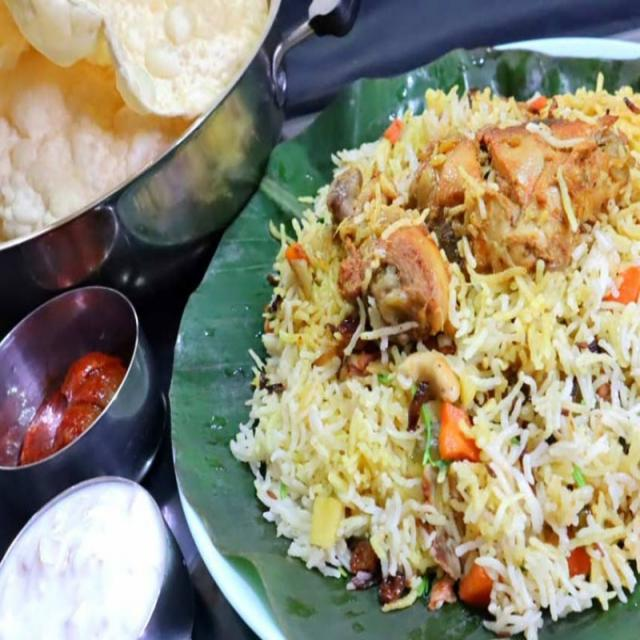Biryani: (247, 90, 639, 604)
